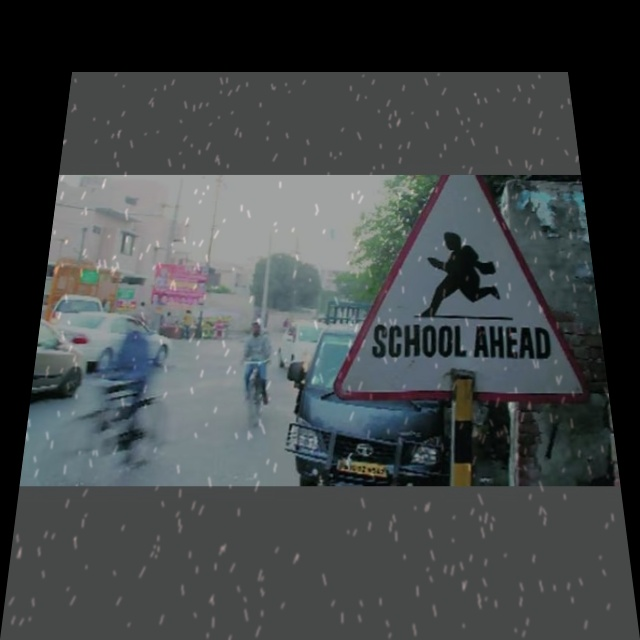School_Ahead: (356, 195, 571, 379)
